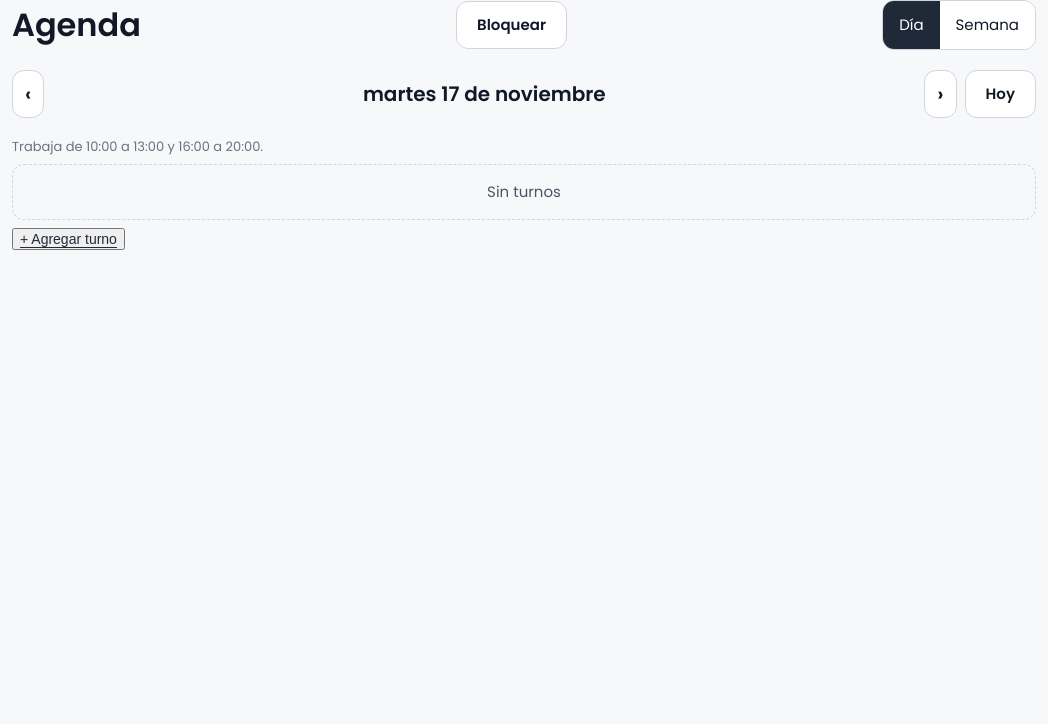
Test case: Agenda › HU-28 CA1: "+ Agregar turno" carga un turno manual en esa agenda y ese día, con teléfono opcional
This screenshot has width=1048, height=724.
Click the button with aria-label "Agregar turno con Ana el martes 17 de noviembre".
click(68, 239)  # box [12,228,125,250]
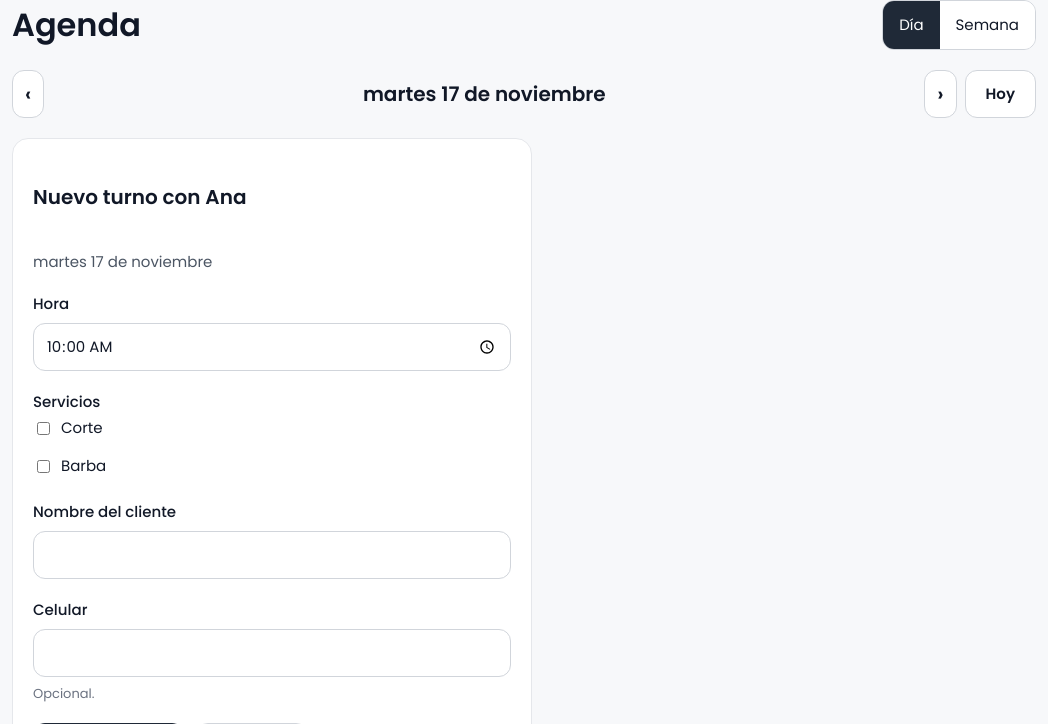
Replace the text in the time field labelled "Hora" with "11:30" at (272, 347), box [33,323,511,371]
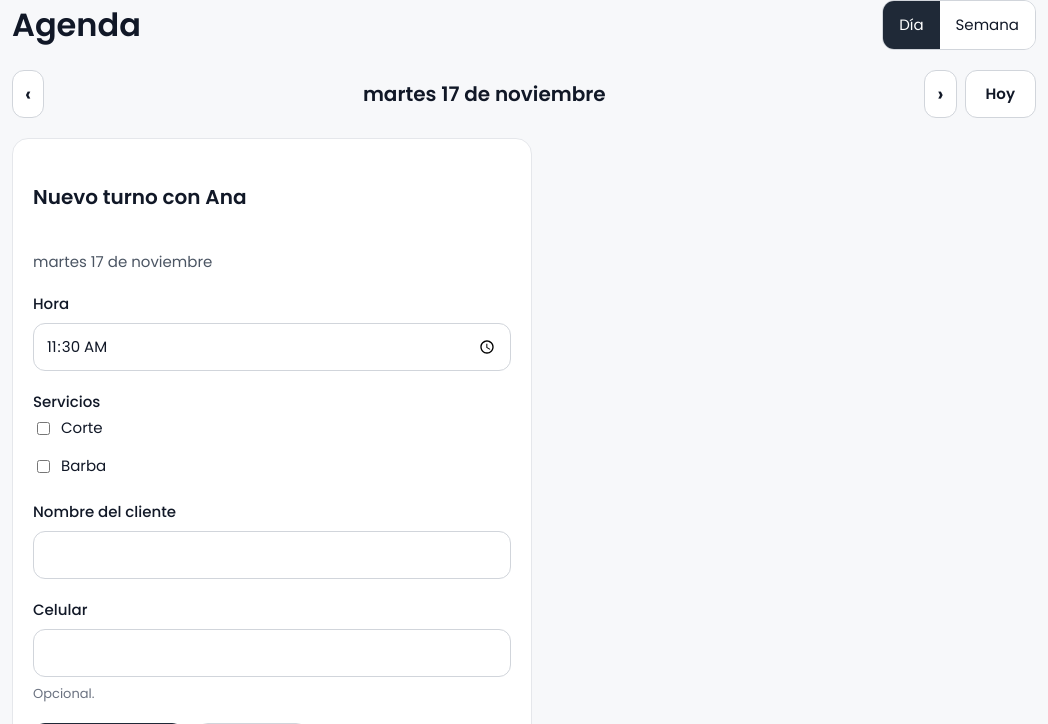
Click the checkbox labelled "Barba".
click(44, 466)  # box [37,460,50,472]
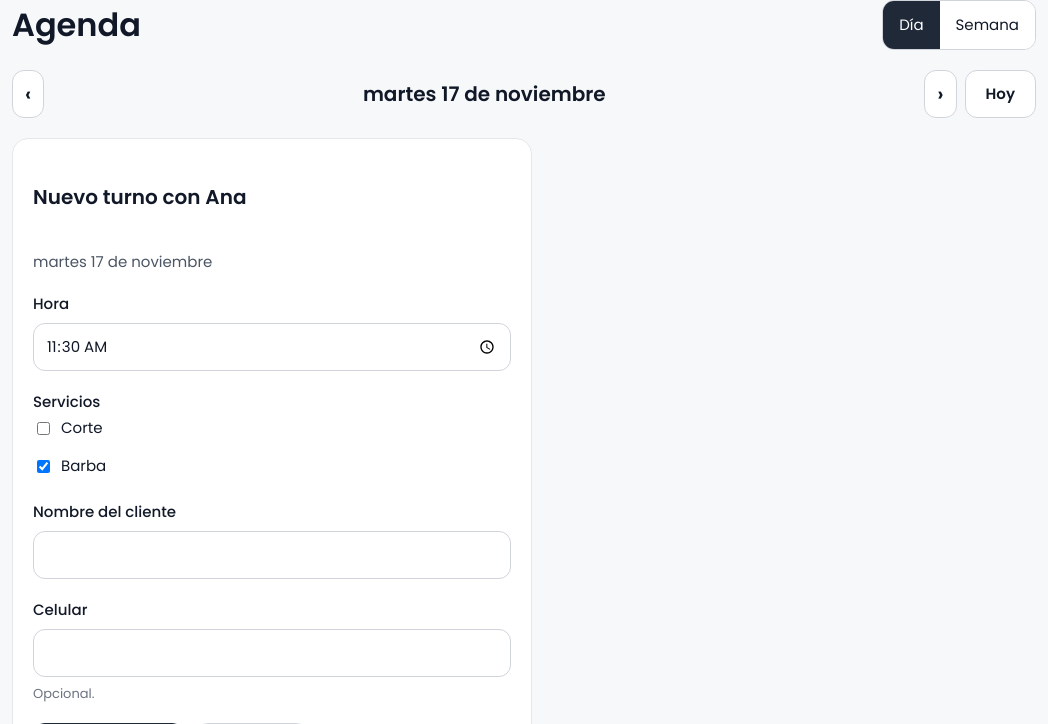
Type "Pedro" into the field labelled "Nombre del cliente".
click(272, 555); type("Pedro")  # box [33,531,511,579]
(page scrolled)
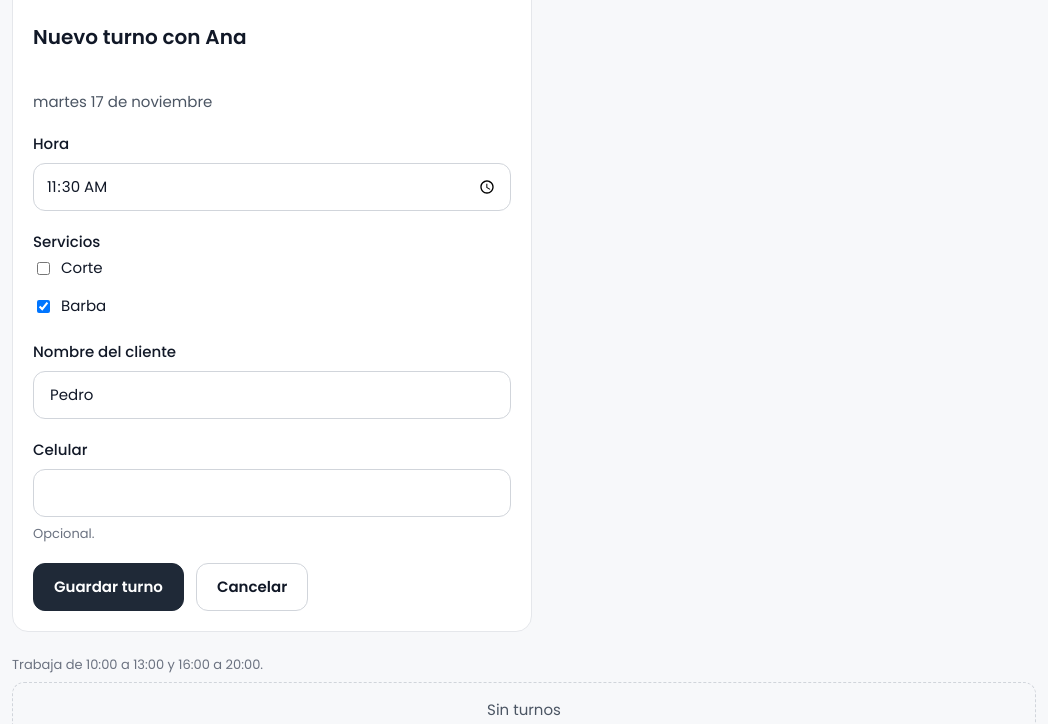
Click the button "Guardar turno".
click(108, 587)  # box [33,563,184,611]
(page scrolled)
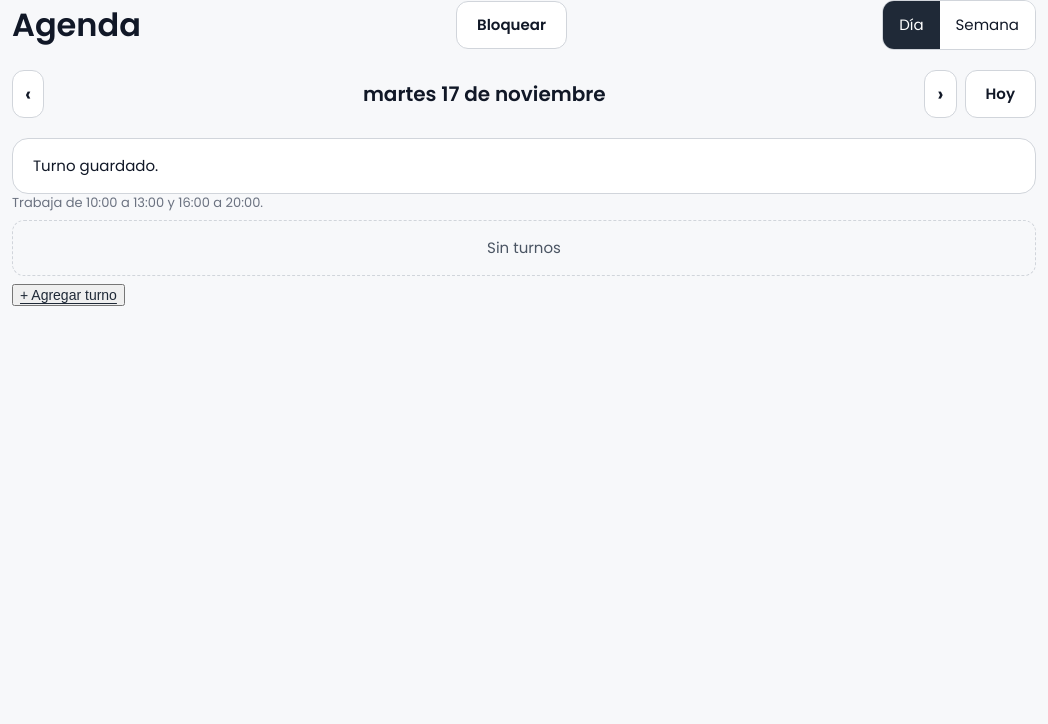
Result: the text "Turno guardado." is shown at [12,138,1036,194]
